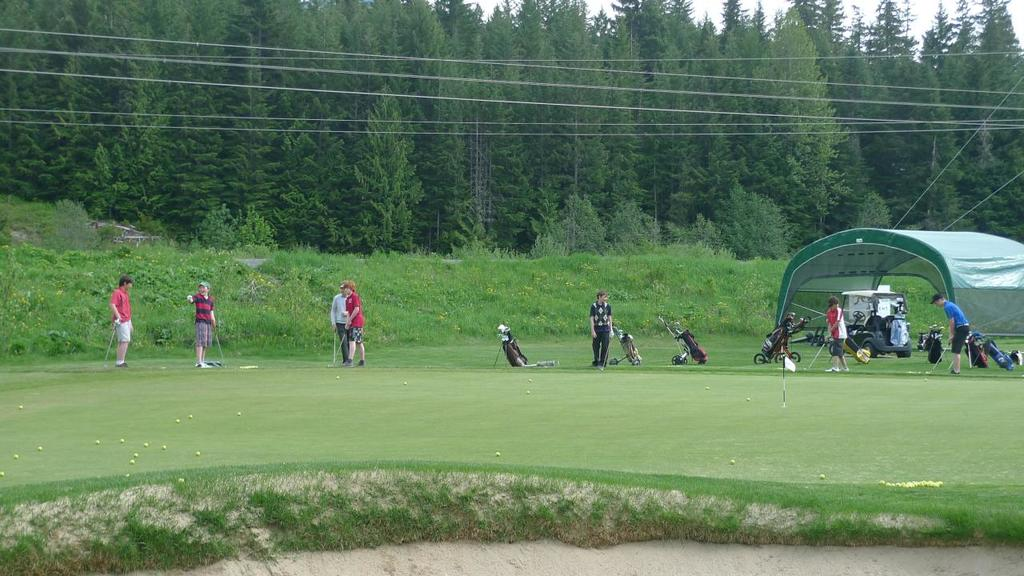Person: (108, 275, 969, 373)
